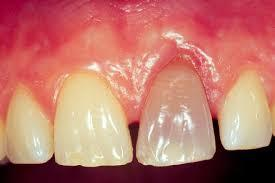Calculus: (53, 73, 141, 168)
Discoloration: (134, 58, 221, 165)
